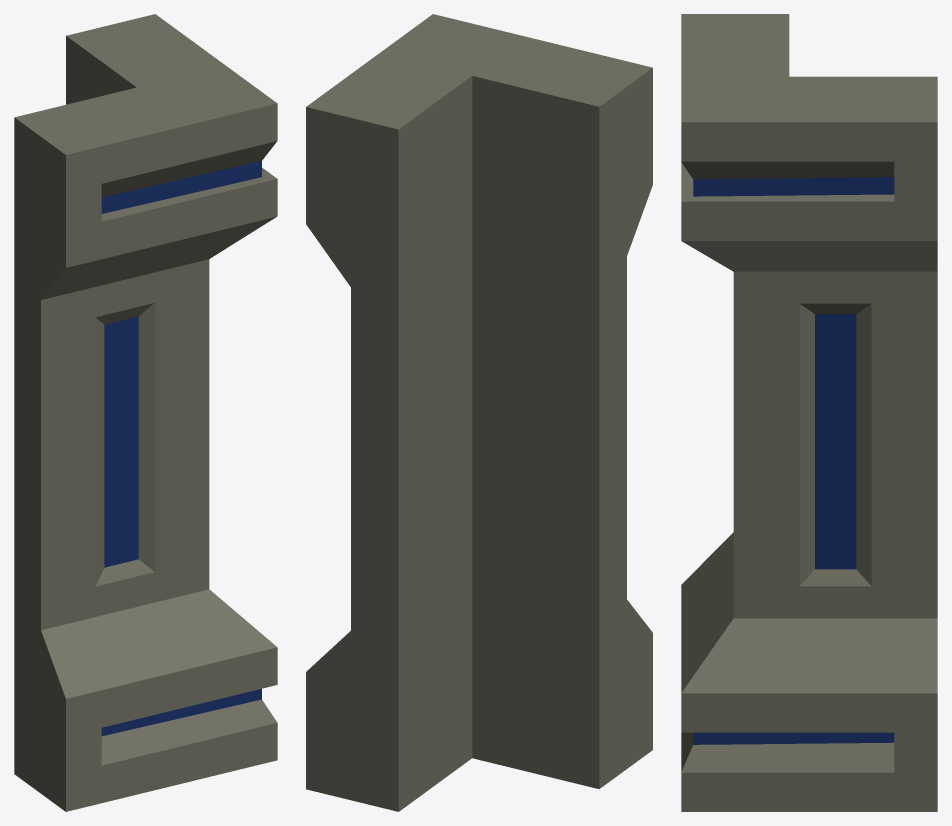
The model's file is LPSciFi_Corner1.fbx.
3 renders of one model, left to right at view 1: azimuth 30°, elevation 25°; view 2: azimuth 150°, elevation 25°; view 3: azimuth 270°, elevation 25°, orthographic. The views are drawn at different scales.
Parts seen in each view (by area): view 1: Corner1; view 2: Corner1; view 3: Corner1.
Boxes of the visible parts, left/top/right/bottom form: Corner1: left=14, top=14, right=277, bottom=811; Corner1: left=306, top=14, right=652, bottom=811; Corner1: left=681, top=14, right=937, bottom=811.
Size of the model in its own units: 135 by 400 by 135.
